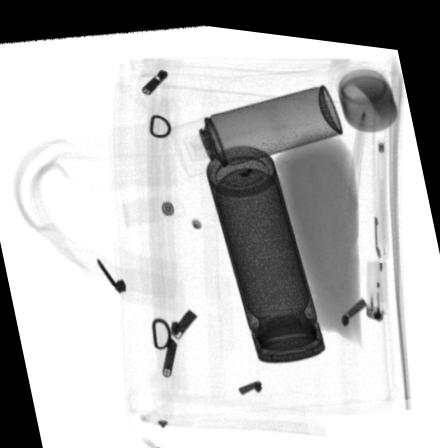Lighter: (365, 250, 387, 312)
Sprayer: (169, 73, 342, 171)
